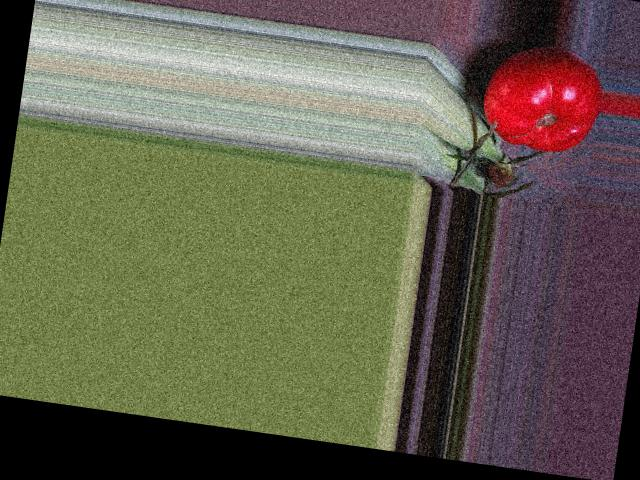tomato: (477, 38, 606, 158)
